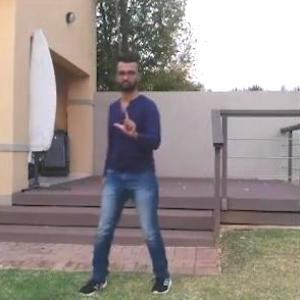land_hand: (110, 102, 143, 143)
